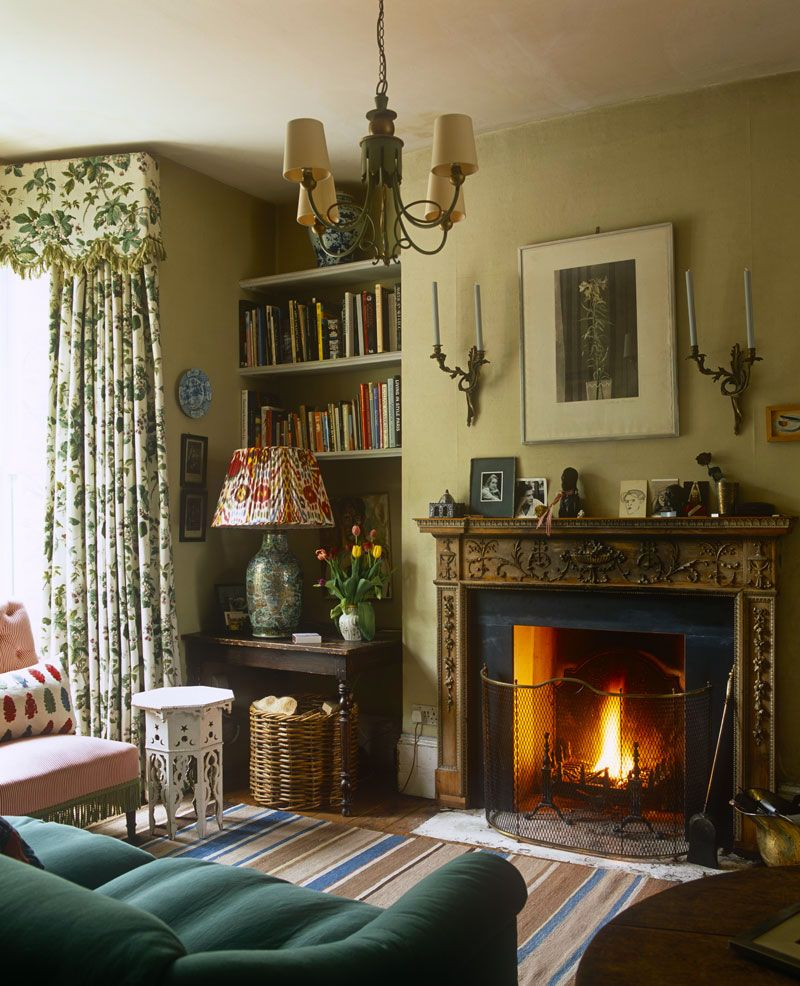coklat: (574, 864, 800, 986)
hijau: (1, 815, 526, 986)
hitam: (557, 468, 581, 517)
putih: (141, 689, 225, 833)
